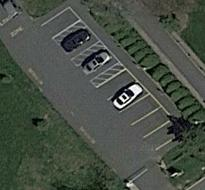parkingspot: (95, 67, 183, 152), (76, 45, 121, 83), (56, 25, 101, 62), (38, 5, 81, 40)
